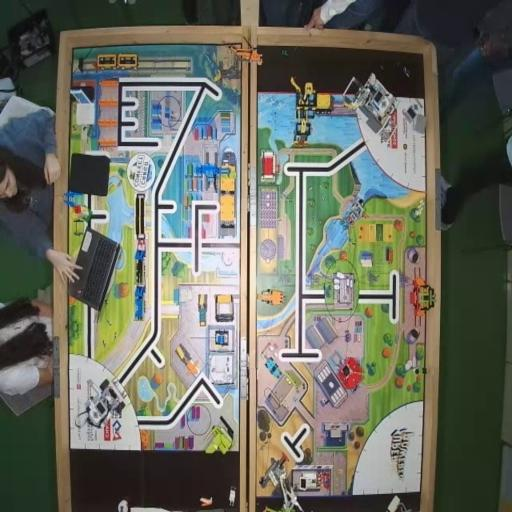lego_robot: (343, 72, 398, 134), (75, 377, 126, 429)
